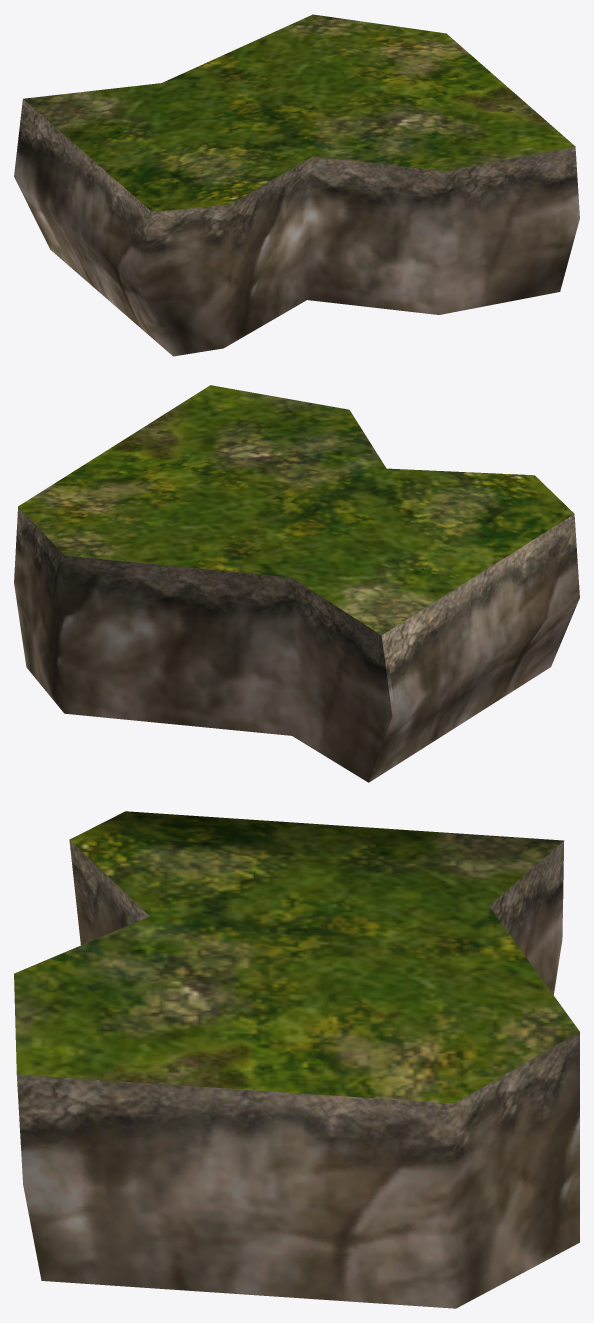
File: ANIMATEDINSTANCES_BAT_ROCKFALL_02__BA.fbx
The picture shows the model from 3 angles, top to bottom: view 1: azimuth 30°, elevation 25°; view 2: azimuth 150°, elevation 25°; view 3: azimuth 270°, elevation 25°; orthographic projection. The views are drawn at different scales.
Parts seen in each view (by area): view 1: ANIMATEDINSTANCES_BAT_ROCKFALL_02__BA; view 2: ANIMATEDINSTANCES_BAT_ROCKFALL_02__BA; view 3: ANIMATEDINSTANCES_BAT_ROCKFALL_02__BA.
Boxes of the visible parts, <box> form: ANIMATEDINSTANCES_BAT_ROCKFALL_02__BA: <box>14,14,579,356</box>; ANIMATEDINSTANCES_BAT_ROCKFALL_02__BA: <box>14,385,579,782</box>; ANIMATEDINSTANCES_BAT_ROCKFALL_02__BA: <box>14,811,579,1308</box>.
Bounding box in the file's own units: 12747 × 4749 × 10459.
3 materials, 3 textured.
